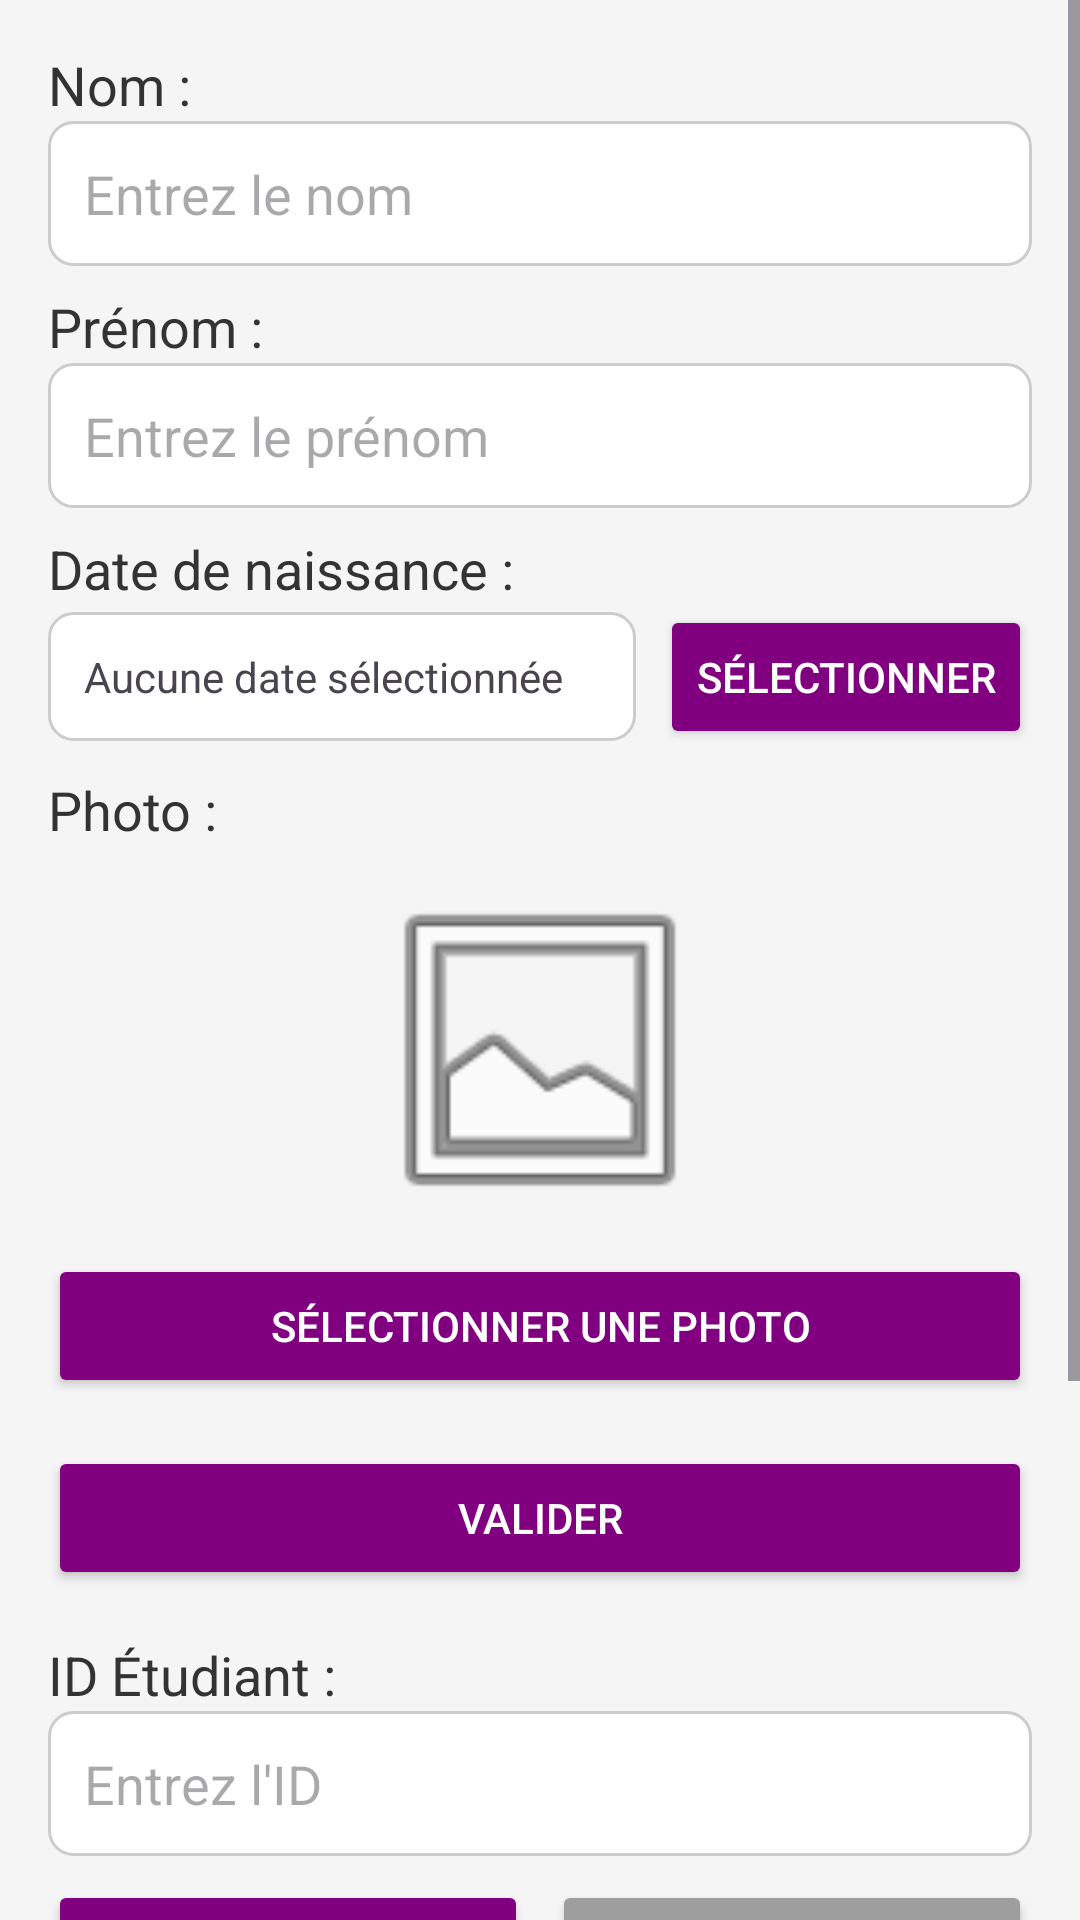

Named icons in this screenshot (1080w x 1920h) and their bounding boxes, (x1=x1, y1=y1, x2=x2, y2=y2):
gallery: (x1=404, y1=914, x2=676, y2=1186)
